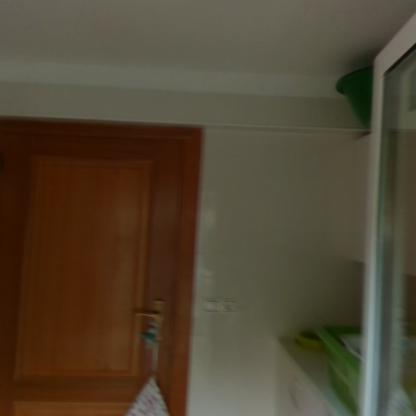door: (0, 134, 176, 416)
lever: (130, 310, 166, 320)
